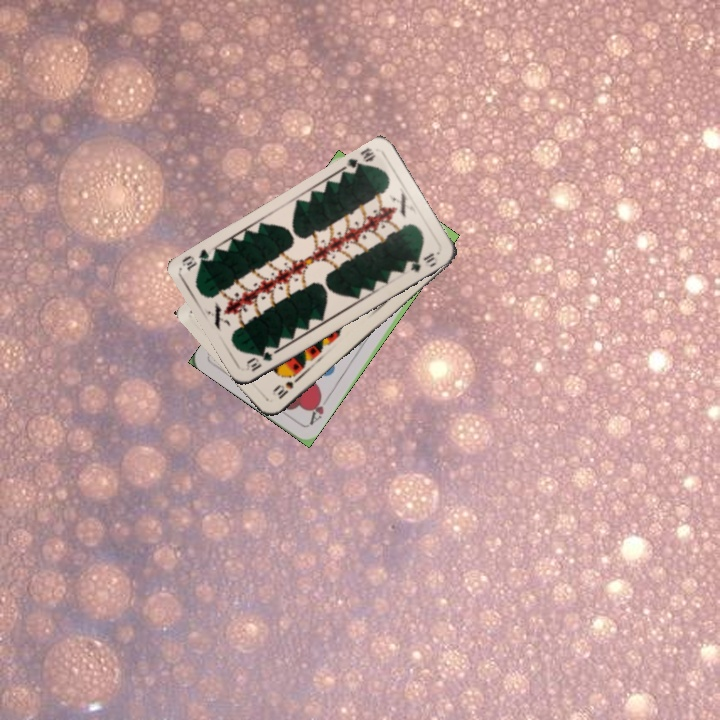G10: (341, 144, 379, 177), (242, 347, 275, 374)
HA: (305, 390, 332, 428)
S10: (269, 373, 303, 402)
